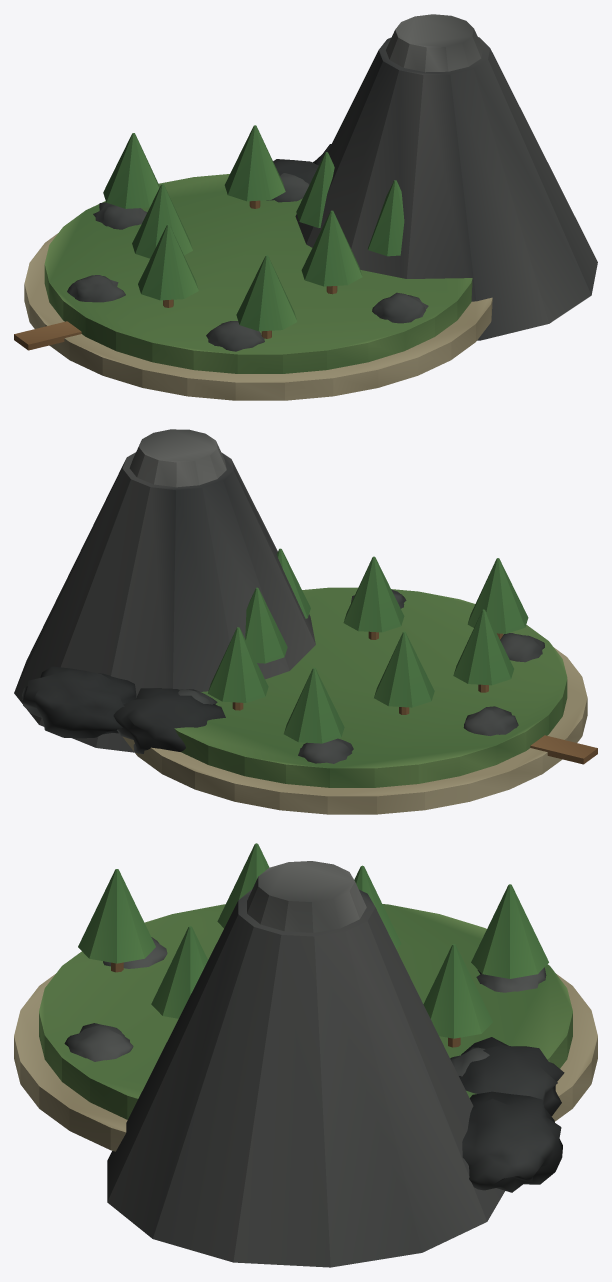
File: island.glb
3 renders of one model, top to bottom at view 1: azimuth 30°, elevation 25°; view 2: azimuth 150°, elevation 25°; view 3: azimuth 270°, elevation 25°, orthographic. The views are drawn at different scales.
Visible parts, largest first — view 1: Cone.008, Cylinder.016, Cylinder.017, Cone.009, Cone.006, Cone.001, Cone.004, Cone.005, Cone.002, Cone.003, Cone.007, Cone (+7 smaller); view 2: Cone.008, Cylinder.016, Cylinder.017, Icosphere.090, Icosphere.089, Cone.009, Cone.004, Cone.002, Cone.006, Cone.003, Cone.001, Cone.005 (+6 smaller); view 3: Cone.008, Cylinder.016, Cylinder.017, Icosphere.090, Cone.009, Icosphere.089, Cone.002, Cone.005, Cone.001, Cone.006, Icosphere.082, Cone.004 (+3 smaller).
Boxes of the visible parts, x1,y1,x2,y2 form: Cone.008: [295, 37, 597, 340]; Cylinder.016: [44, 174, 472, 373]; Cylinder.017: [24, 233, 492, 400]; Cone.009: [386, 14, 483, 72]; Cone.006: [301, 210, 362, 286]; Cone.001: [224, 125, 285, 201]; Cone.004: [138, 224, 198, 300]; Cone.005: [236, 255, 297, 331]; Cone.002: [103, 133, 159, 208]; Cone.003: [132, 184, 192, 258]; Cone.007: [368, 180, 404, 256]; Cone: [296, 152, 334, 227]; Cone.008: [14, 452, 315, 752]; Cylinder.016: [174, 587, 567, 787]; Cylinder.017: [122, 647, 587, 814]; Icosphere.090: [22, 666, 136, 738]; Icosphere.089: [113, 688, 225, 753]; Cone.009: [129, 429, 226, 487]; Cone.004: [453, 609, 513, 685]; Cone.002: [284, 667, 344, 743]; Cone.006: [343, 556, 404, 632]; Cone.003: [374, 631, 434, 707]; Cone.001: [208, 627, 268, 702]; Cone.005: [467, 558, 528, 633]; Cone.008: [107, 889, 504, 1267]; Cylinder.016: [39, 904, 572, 1119]; Cylinder.017: [14, 974, 597, 1151]; Icosphere.090: [462, 1091, 562, 1192]; Cone.009: [247, 861, 366, 932]; Icosphere.089: [459, 1037, 564, 1116]; Cone.002: [471, 884, 548, 978]; Cone.005: [78, 869, 155, 963]; Cone.001: [423, 944, 492, 1038]; Cone.006: [151, 926, 207, 1018]; Icosphere.082: [64, 1023, 133, 1061]; Cone.004: [217, 843, 269, 928].
Size of the model in its own units: 44.62 by 18.6 by 32.8.
